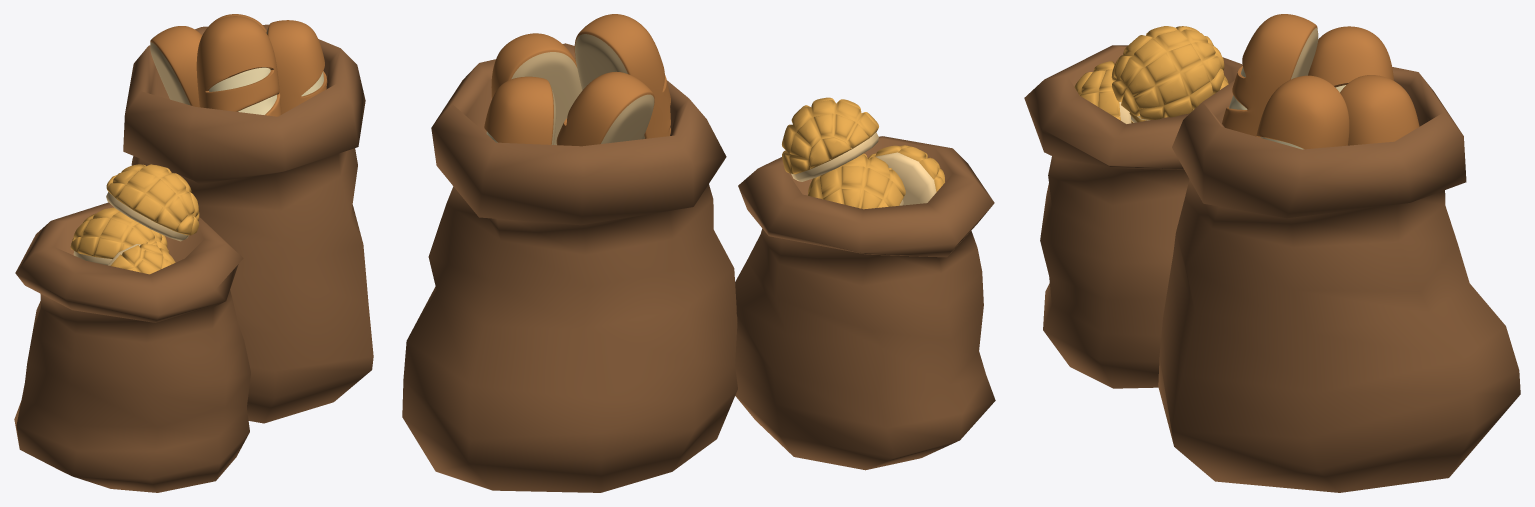
The model's file is stack_of_bread.glb.
The picture shows the model from 3 angles, left to right: view 1: azimuth 30°, elevation 25°; view 2: azimuth 150°, elevation 25°; view 3: azimuth 270°, elevation 25°; orthographic projection. The views are drawn at different scales.
Visible parts, largest first — view 1: spice_sack, baguette | Material.012, Polo Bun | Yellow, baguette | Material.013, Polo Bun | Pale Yellow, baguette | Material.014; view 2: spice_sack, baguette | Material.012, Polo Bun | Yellow, baguette | Material.014, Polo Bun | Pale Yellow; view 3: spice_sack, baguette | Material.012, Polo Bun | Yellow, baguette | Material.014.
Boxes of the visible parts, bbox=[...] form: spice_sack: bbox=[14, 24, 373, 492]; baguette | Material.012: bbox=[150, 14, 327, 116]; Polo Bun | Yellow: bbox=[70, 164, 199, 274]; baguette | Material.013: bbox=[209, 67, 323, 114]; Polo Bun | Pale Yellow: bbox=[73, 192, 188, 265]; baguette | Material.014: bbox=[150, 28, 268, 105]; spice_sack: bbox=[402, 43, 995, 492]; baguette | Material.012: bbox=[484, 14, 670, 146]; Polo Bun | Yellow: bbox=[782, 97, 944, 209]; baguette | Material.014: bbox=[511, 34, 654, 145]; Polo Bun | Pale Yellow: bbox=[791, 132, 936, 205]; spice_sack: bbox=[1024, 45, 1520, 492]; baguette | Material.012: bbox=[1222, 14, 1419, 149]; Polo Bun | Yellow: bbox=[1074, 26, 1228, 123]; baguette | Material.014: bbox=[1291, 28, 1318, 79].
Size of the model in its own units: 1.43 by 1.29 by 1.36.
